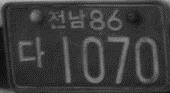0: (133, 34, 160, 84), (81, 34, 105, 84)
1: (61, 34, 73, 83)
6: (106, 8, 122, 32)
7: (105, 35, 131, 86)
8: (89, 8, 105, 32)
다: (17, 36, 45, 70)
전남_O: (47, 8, 87, 30)
